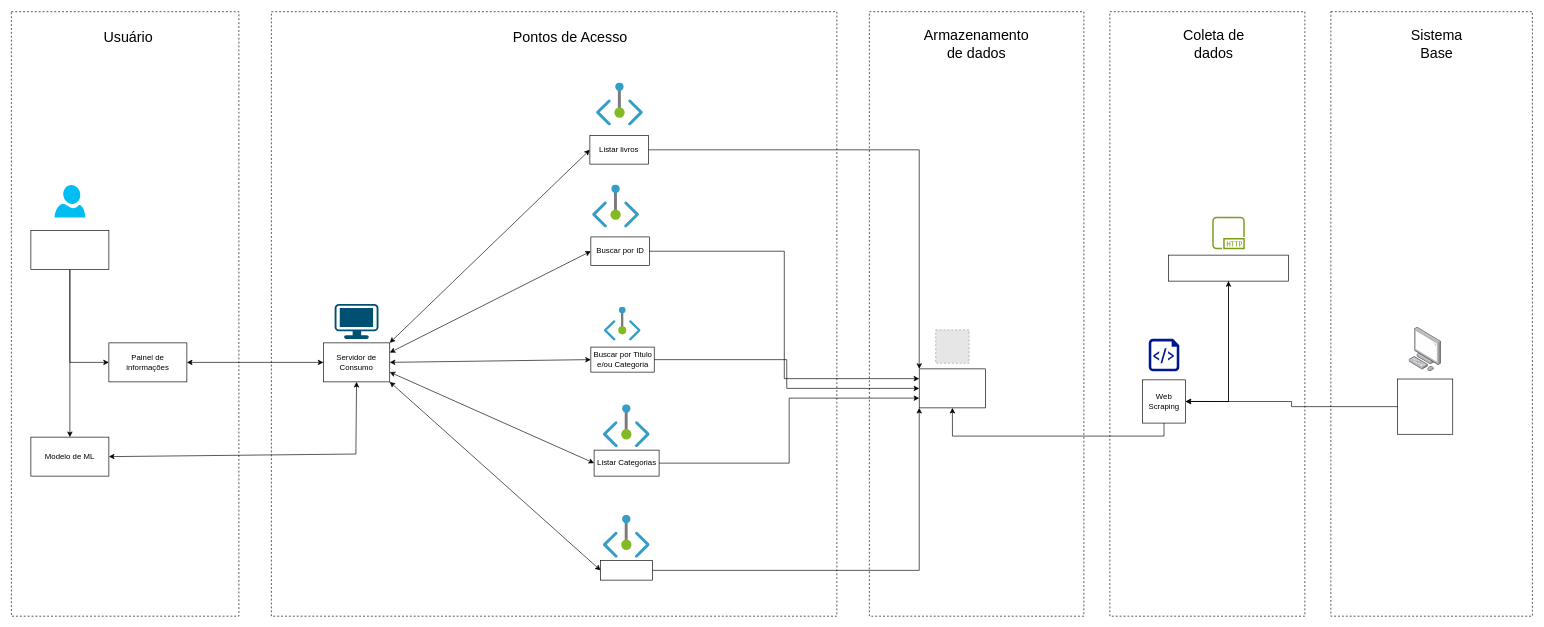
Image size: 1544x627. Some labels were removed from this diagram. Grey dashed boxes stand in for pictures. Each missing label, with the centre of its shape:
"Banco de Dados CSV" goes at point 952,388.
"Cientista" goes at point 69,249.
"http://books.toscrape.com/" goes at point 1228,267.
"Inicia o Sistema" goes at point 1425,406.
"Status Conexão" goes at point 626,570.
